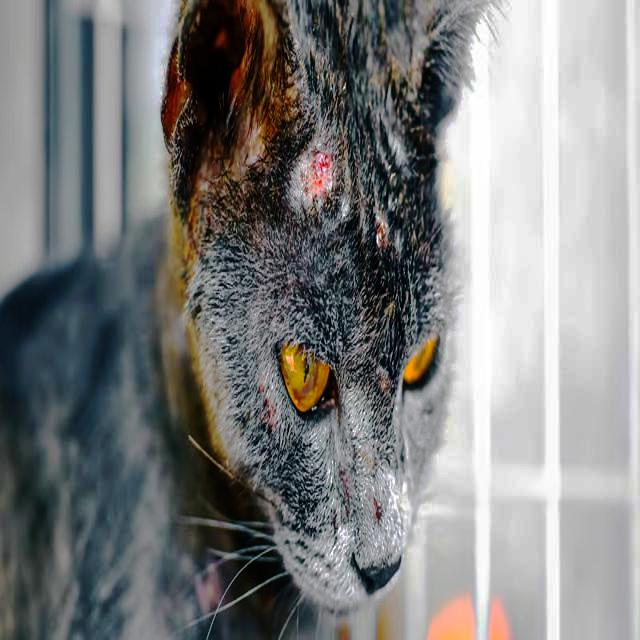ringworm: (286, 141, 343, 218), (379, 218, 390, 241)
